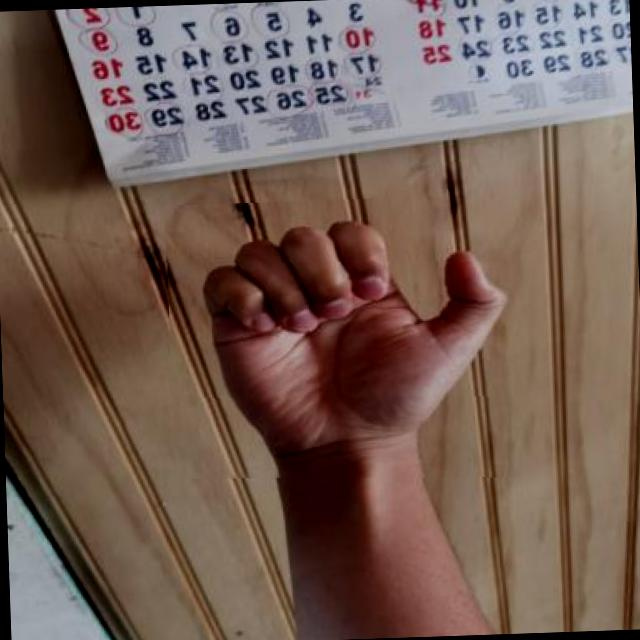E: (164, 192, 534, 490)
